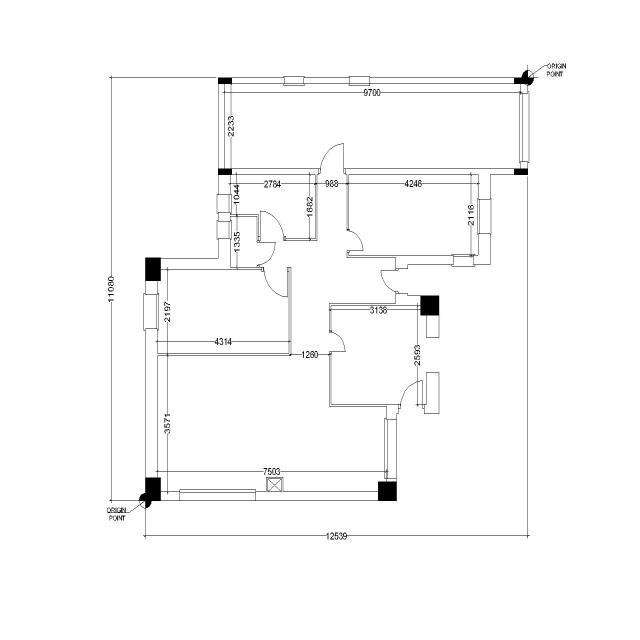Column: (145, 477, 161, 501), (145, 257, 161, 281), (378, 481, 397, 501), (421, 296, 439, 316), (514, 77, 528, 84), (218, 168, 232, 175), (218, 77, 232, 84), (514, 169, 528, 175)
Door: (398, 379, 426, 415), (319, 142, 348, 174), (258, 210, 287, 242), (261, 266, 290, 298), (380, 267, 410, 295), (255, 241, 276, 267), (328, 329, 346, 356), (346, 228, 364, 253)
Window: (178, 488, 257, 503), (384, 416, 398, 481), (518, 90, 530, 164), (143, 292, 160, 332), (476, 197, 492, 236), (451, 253, 477, 268), (216, 219, 232, 241), (282, 74, 306, 88), (216, 193, 232, 214), (348, 75, 371, 87)
